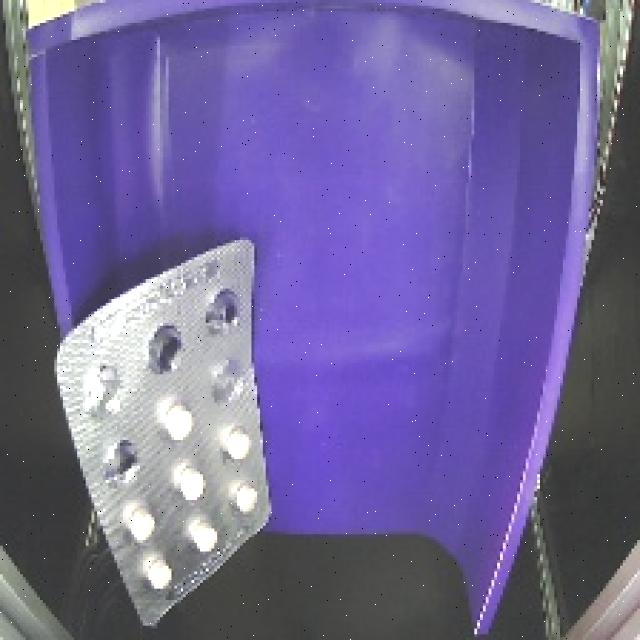med_plate: (49, 228, 285, 634)
